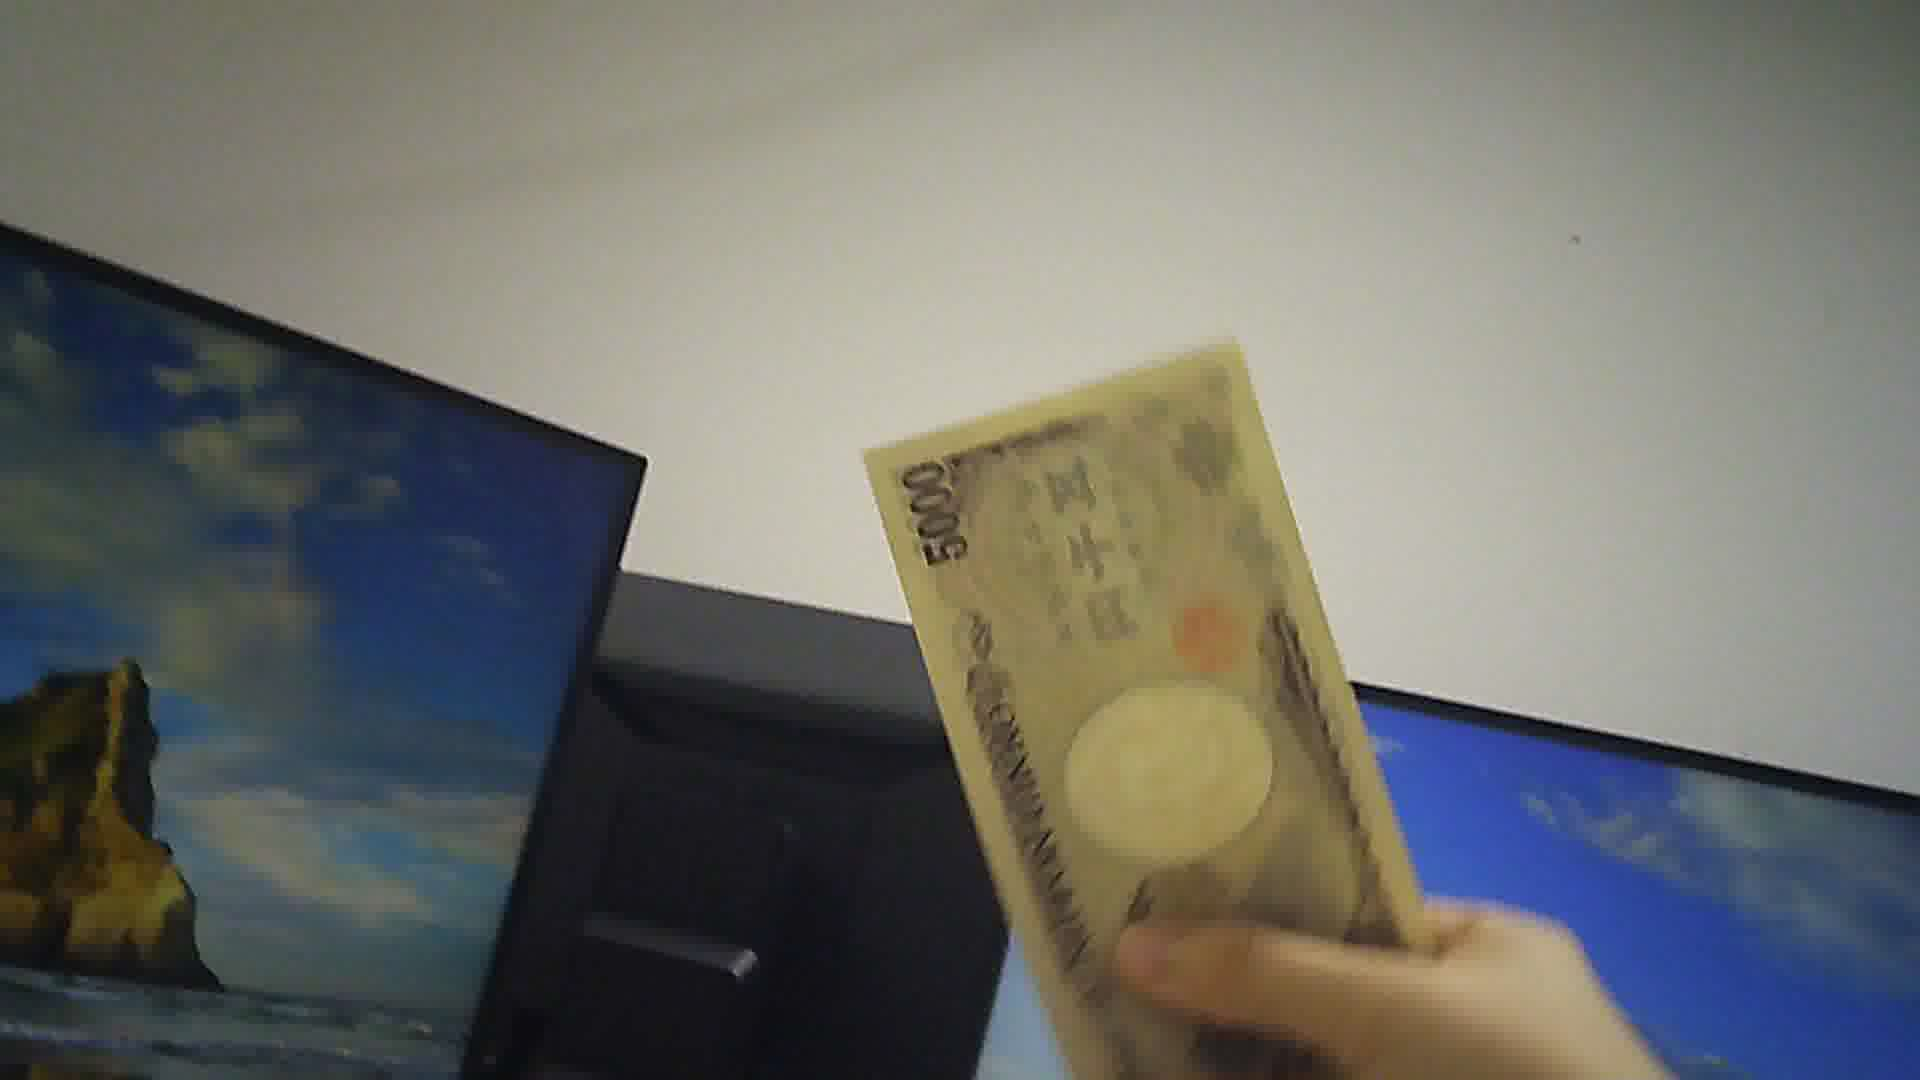5,000 Yen: (866, 365, 1435, 1073)
